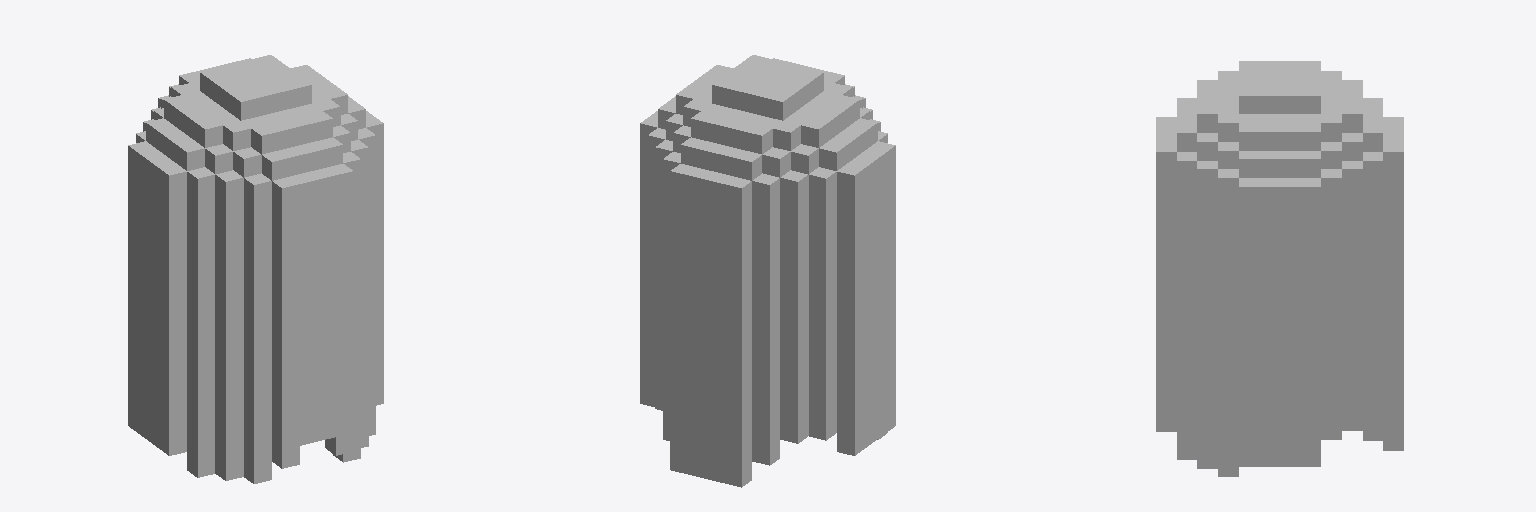
File: GhostBody2.obj
The picture shows the model from 3 angles: view 1: azimuth 30°, elevation 25°; view 2: azimuth 150°, elevation 25°; view 3: azimuth 270°, elevation 25°; orthographic projection.
Visible parts, largest first — view 1: object 1; view 2: object 1; view 3: object 1.
Boxes of the visible parts, x1=… form: object 1: x1=128, y1=55, x2=383, y2=483; object 1: x1=640, y1=55, x2=895, y2=487; object 1: x1=1156, y1=61, x2=1403, y2=476.
Size of the model in its own units: 1.2 by 1.9 by 1.2.